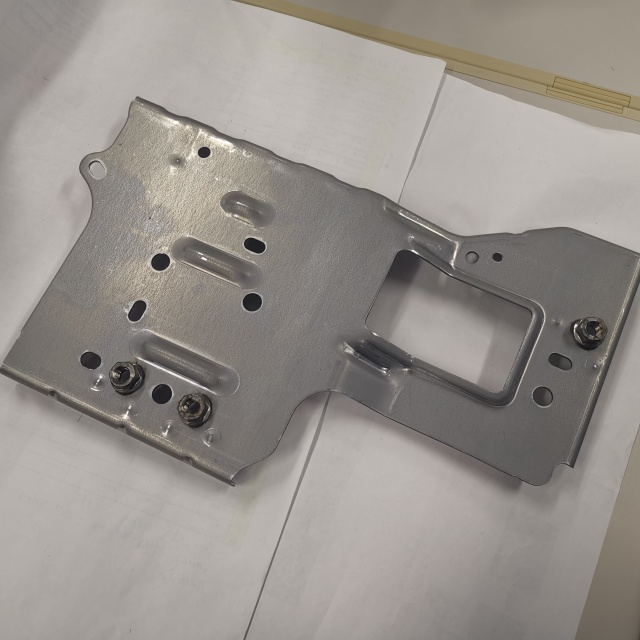dog: (175, 390, 214, 431), (108, 358, 146, 398), (569, 314, 608, 352)
